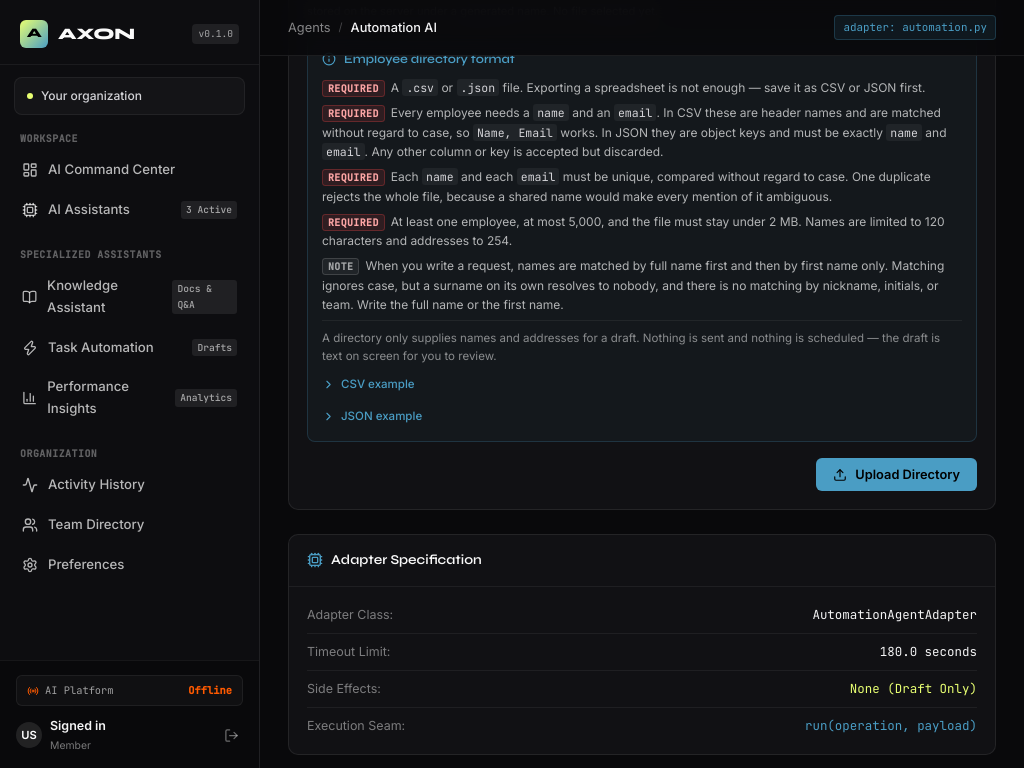
AutomationAIPage employee directory guidance › keeps the CSV example collapsed until asked for
The width and height of the screenshot is (1024, 768).
(page scrolled)
Expected: the text "Aarti Rao,aarti@example.com" is not shown
Click the button "CSV example": (368, 384) [322,375,415,393]
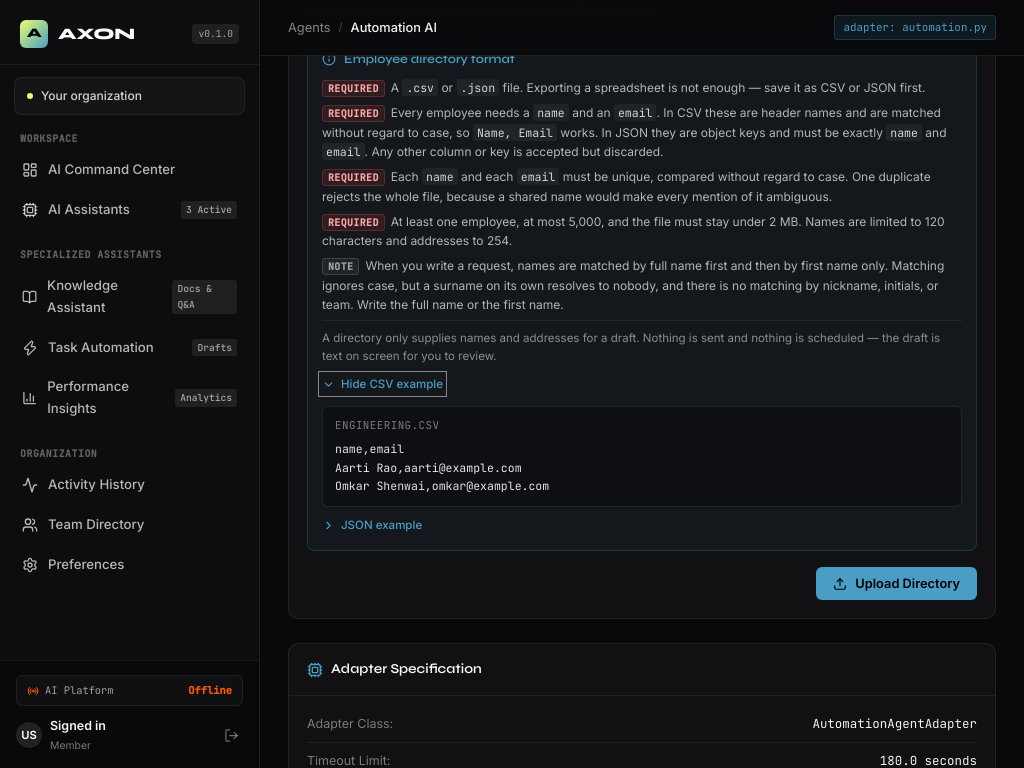
Result: the text "Aarti Rao,aarti@example.com" is shown at [335,441,549,493]
